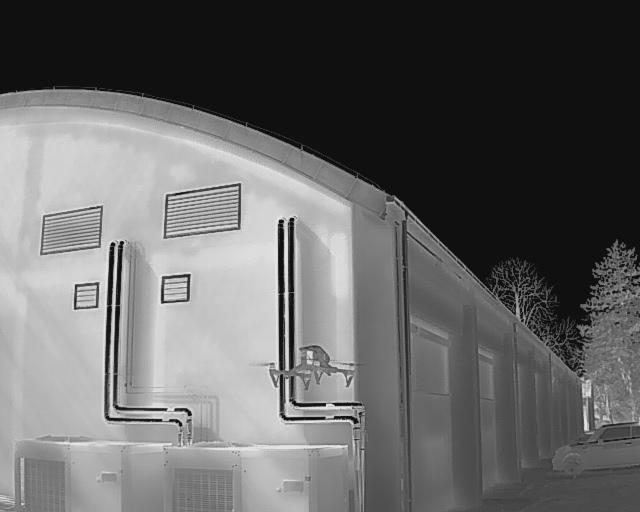drone: (244, 341, 376, 398)
